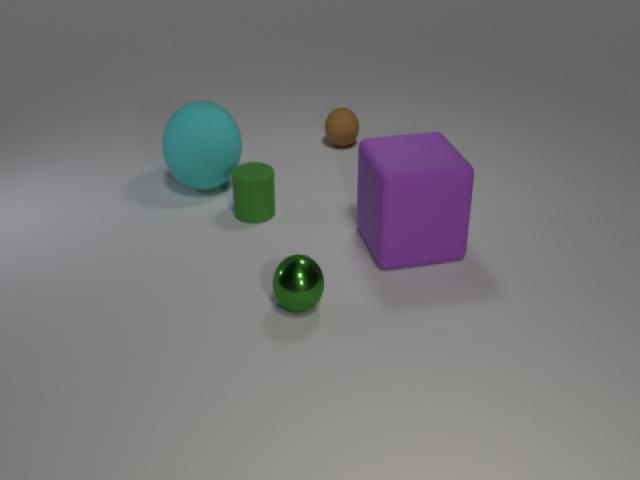cylinder: (228, 155, 282, 227)
round ball: (159, 95, 244, 196), (268, 247, 330, 317), (320, 101, 363, 153)
